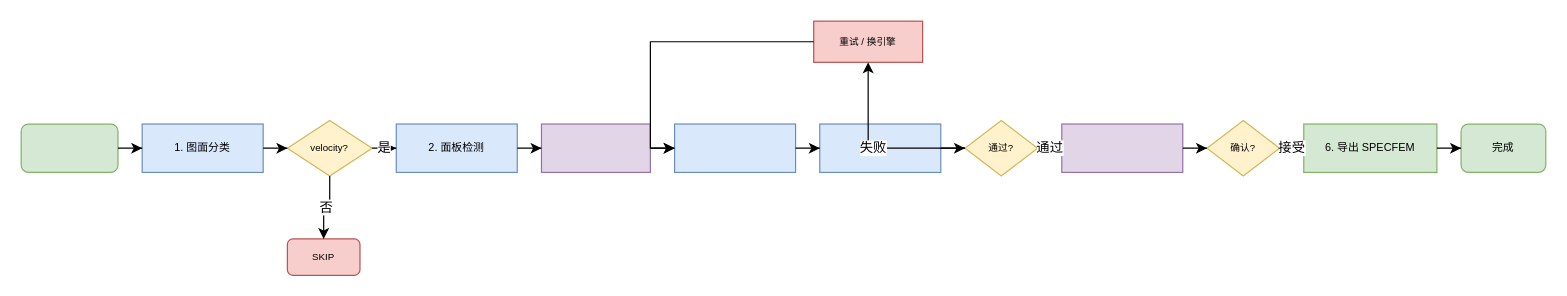
This 1567x296 diagram has some shape labels left out. The centre of each missing label's shape, as x and y in pixels:
3. 自动分割: the point at 734,147
4. 视觉审计: the point at 880,147
5. napari 编辑: the point at 1122,147
PDF/Image: the point at 69,147
选择面板: the point at 595,147
